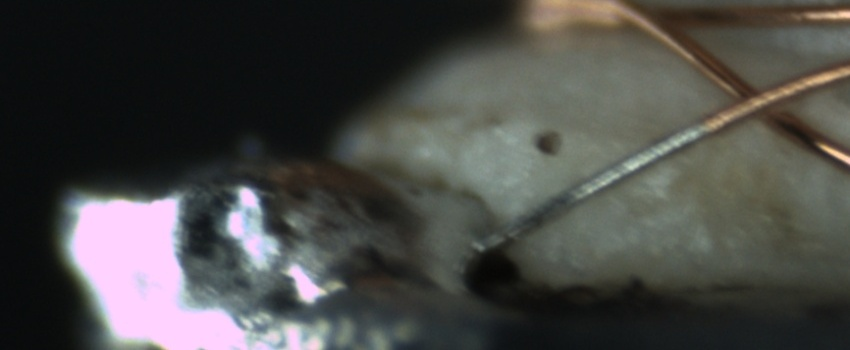CL: (707, 68, 807, 132)
TS: (470, 122, 708, 257)
